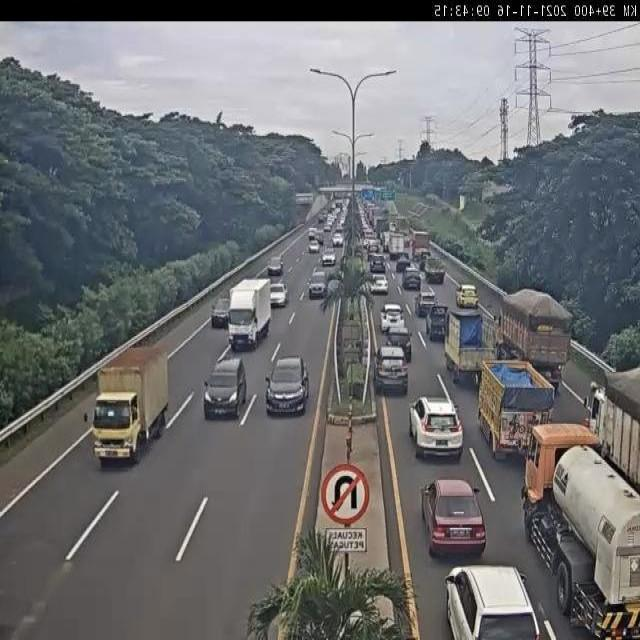Car: (443, 564, 544, 638), (420, 479, 486, 559), (408, 396, 464, 460), (204, 355, 248, 419), (265, 354, 309, 415), (373, 344, 411, 395), (383, 325, 413, 363), (379, 303, 405, 334), (356, 199, 375, 239), (414, 287, 437, 318), (307, 269, 328, 299), (211, 296, 230, 328), (402, 267, 422, 291), (270, 281, 288, 307), (370, 275, 389, 295), (267, 257, 284, 277), (369, 253, 385, 274), (395, 254, 411, 273), (322, 249, 336, 266), (308, 228, 321, 244), (332, 233, 344, 247), (308, 240, 320, 253), (327, 217, 335, 231), (340, 217, 348, 230), (317, 214, 325, 224)
Truck: (524, 428, 640, 637), (91, 346, 168, 466), (496, 287, 574, 393), (478, 359, 556, 462), (585, 369, 640, 511), (444, 307, 494, 385), (228, 279, 273, 353), (425, 305, 449, 343), (422, 258, 446, 284), (411, 230, 431, 260), (373, 215, 388, 240), (395, 216, 411, 237), (350, 206, 360, 229), (404, 235, 414, 255), (336, 192, 349, 202), (355, 245, 363, 257), (389, 221, 397, 232), (335, 201, 343, 211), (330, 202, 336, 212), (350, 192, 356, 202), (330, 194, 336, 202)
